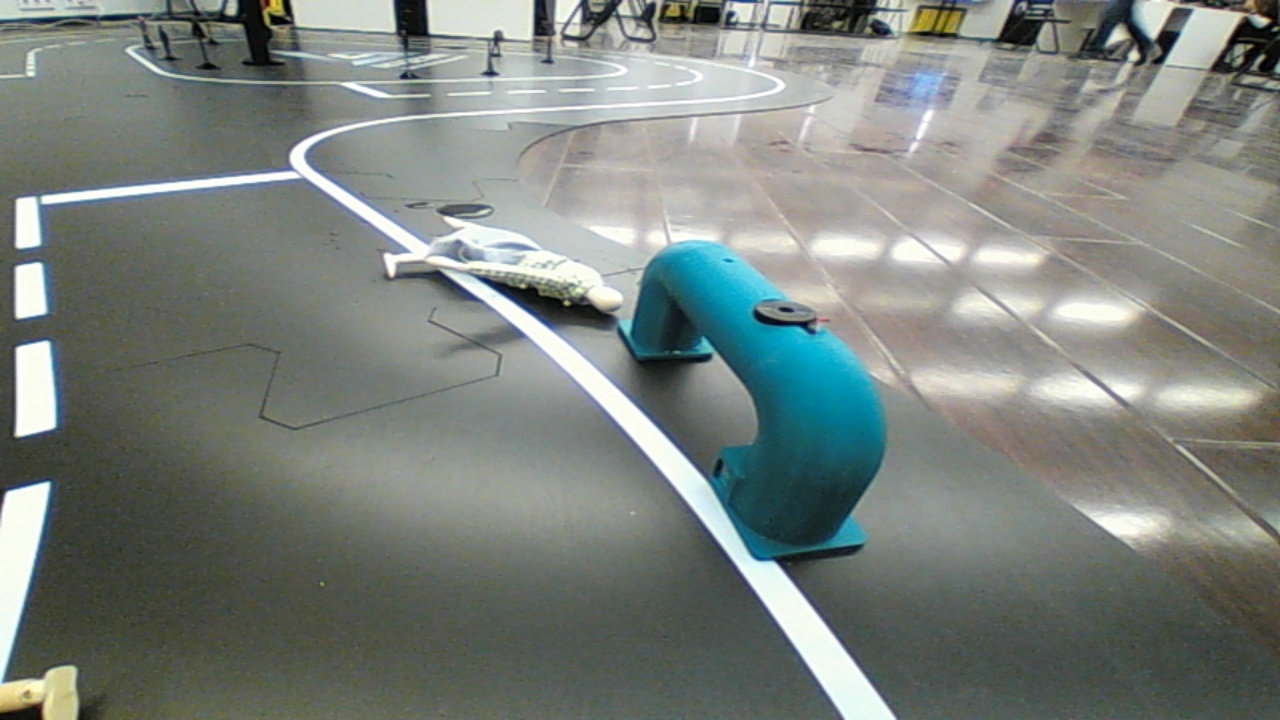Pedestrian crossing: (606, 217, 919, 573)
Road works: (366, 198, 645, 334)
